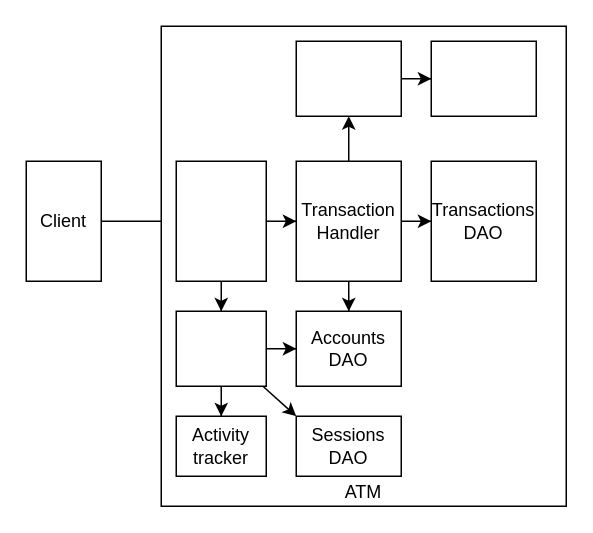
The diagram is 593 pixels wide and 533 high, and some of its shapes have lost their labels. The shapes that lost their labels are listed below. From the top down, each one's centre as x and y in pixels, then its label:
pixel 348 78: ATM Cash state
pixel 483 78: ATM Cash State DAO
pixel 220 220: Controller
pixel 220 348: Authorizer
